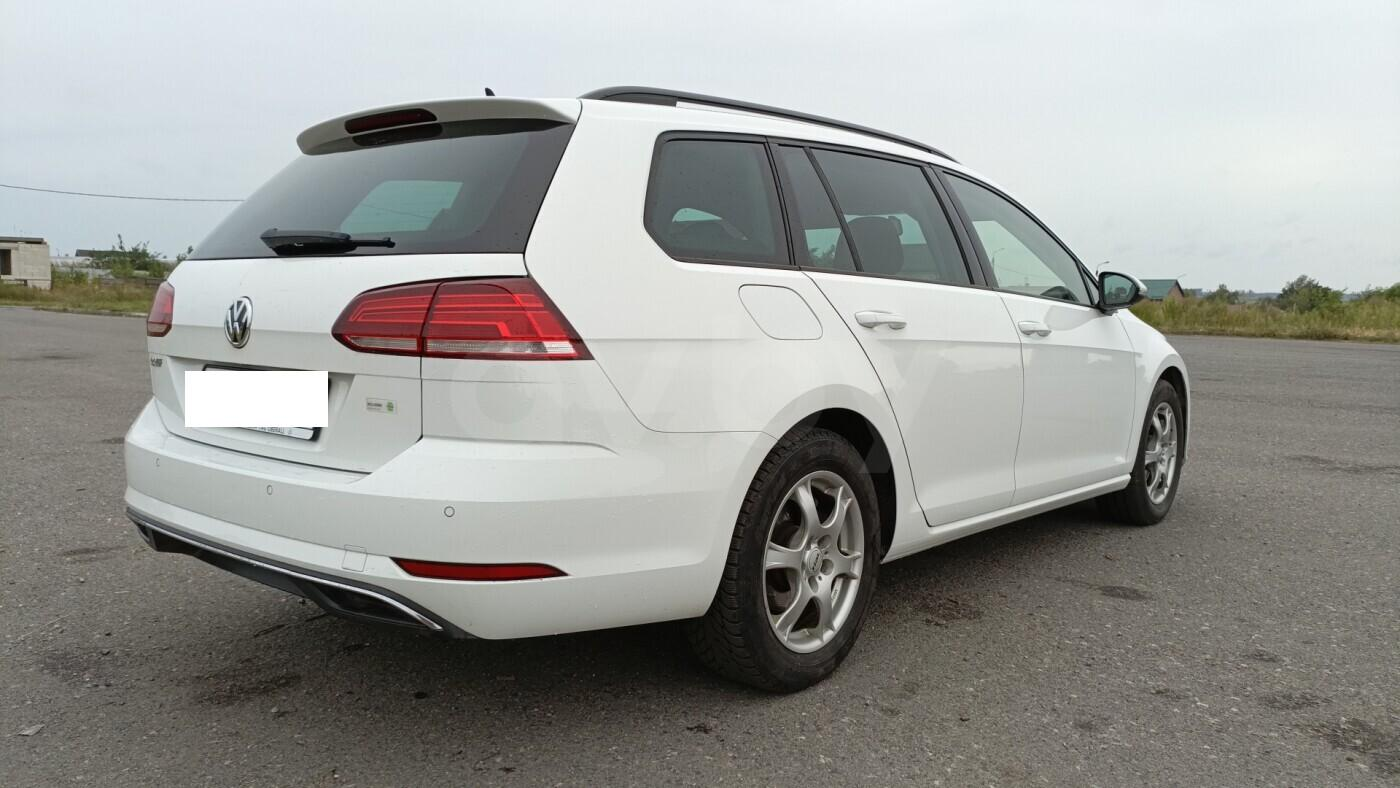Golf_2017-2021: (114, 89, 1196, 704)
